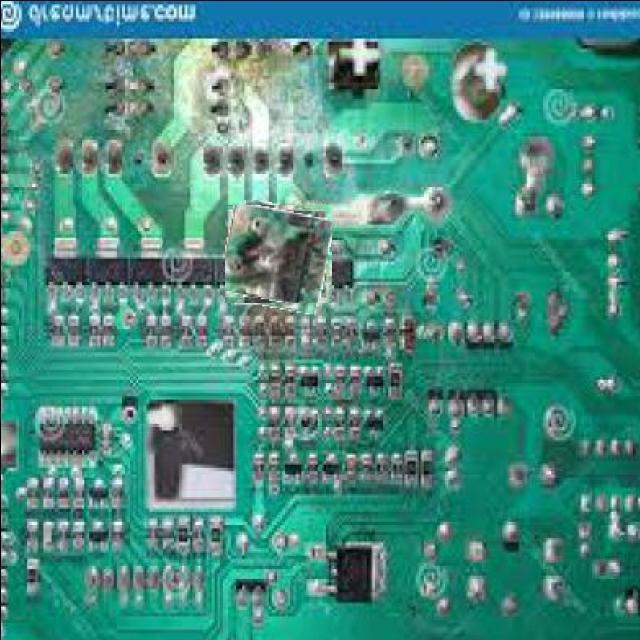damged: (227, 203, 330, 306)
